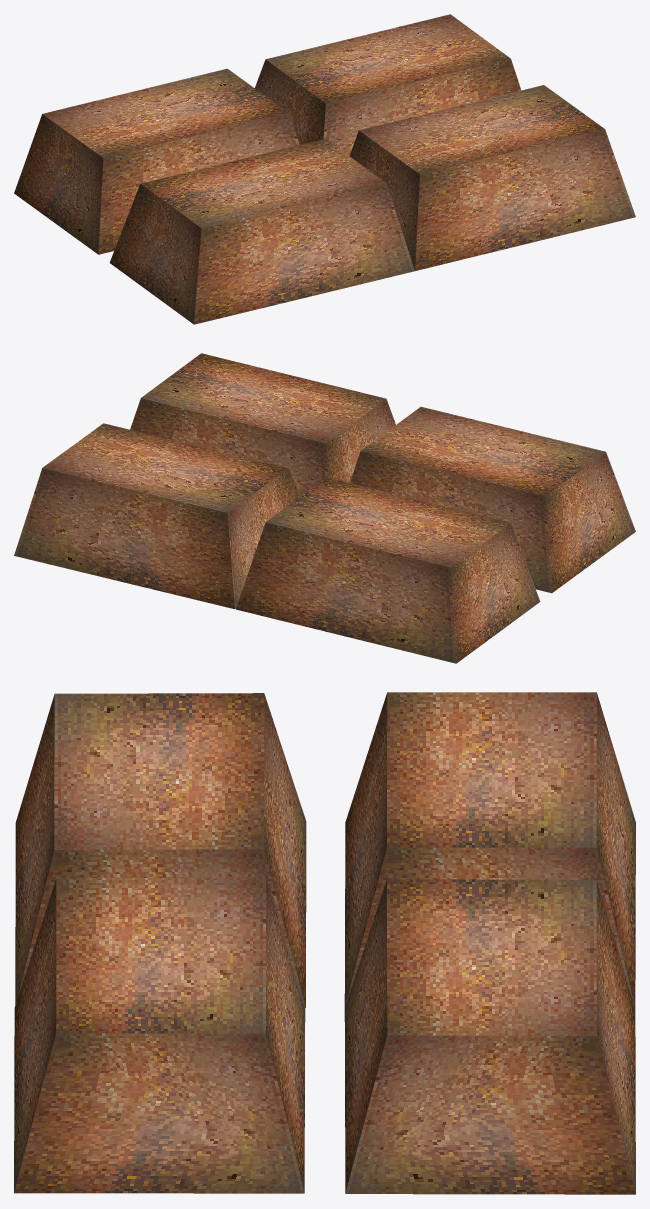
The model's file is iron_4.glb.
The picture shows the model from 3 angles, top to bottom: view 1: azimuth 30°, elevation 25°; view 2: azimuth 150°, elevation 25°; view 3: azimuth 270°, elevation 25°; orthographic projection. The views are drawn at different scales.
Parts seen in each view (by area): view 1: iron01.001; view 2: iron01.001; view 3: iron01.001.
Part boxes in pixels (x1,y1,x2,y2): iron01.001: (14, 14, 635, 324); iron01.001: (14, 353, 635, 663); iron01.001: (14, 692, 635, 1194).
Bounding box in the file's own units: 126 × 22.94 × 89.15.
1 material, 1 textured.
